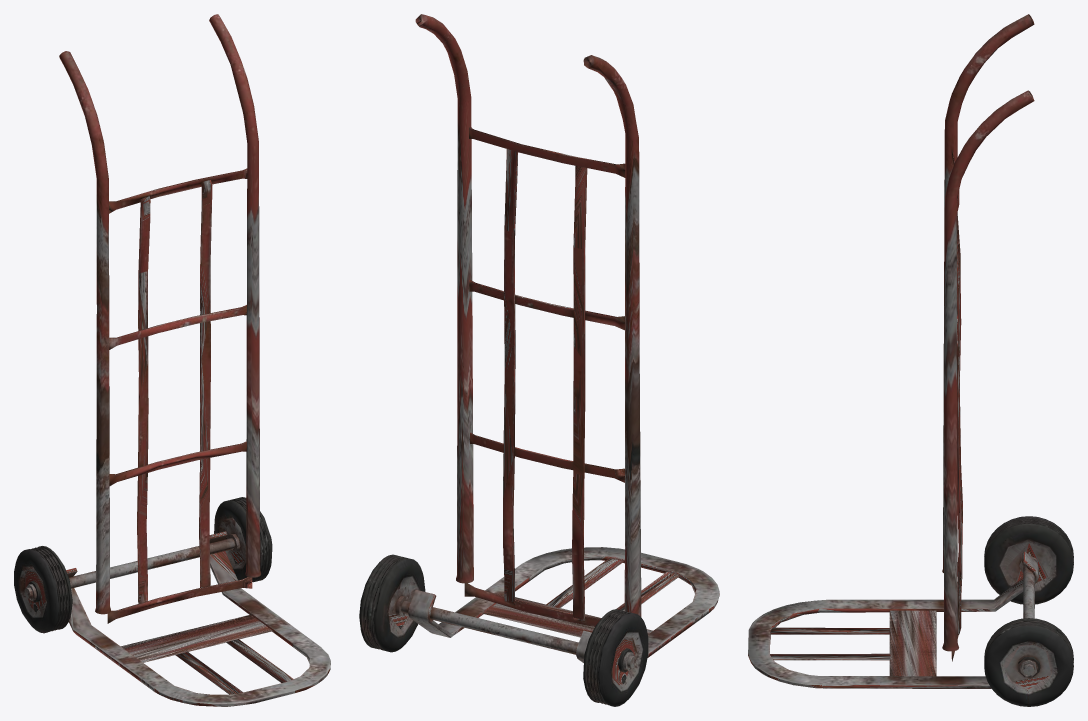
The model's file is hand_truck.glb.
3 views of the same model, side by side, from view 1: azimuth 30°, elevation 25°; view 2: azimuth 150°, elevation 25°; view 3: azimuth 270°, elevation 25° (orthographic). The views are drawn at different scales.
Visible parts, largest first — view 1: hand_truck; view 2: hand_truck; view 3: hand_truck.
Part boxes in pixels (left/top/right/bottom): hand_truck: left=14, top=14, right=330, bottom=706; hand_truck: left=359, top=14, right=719, bottom=706; hand_truck: left=748, top=14, right=1073, bottom=706.
Bounding box in the file's own units: 0.5933 × 1.4 × 0.6922.
1 material, 1 textured.
